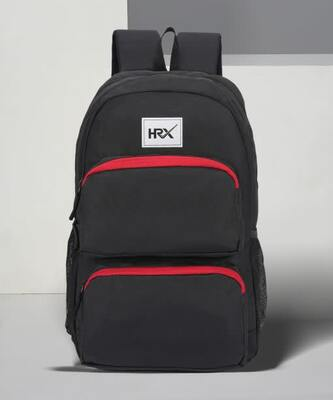backpack: (64, 26, 267, 372)
